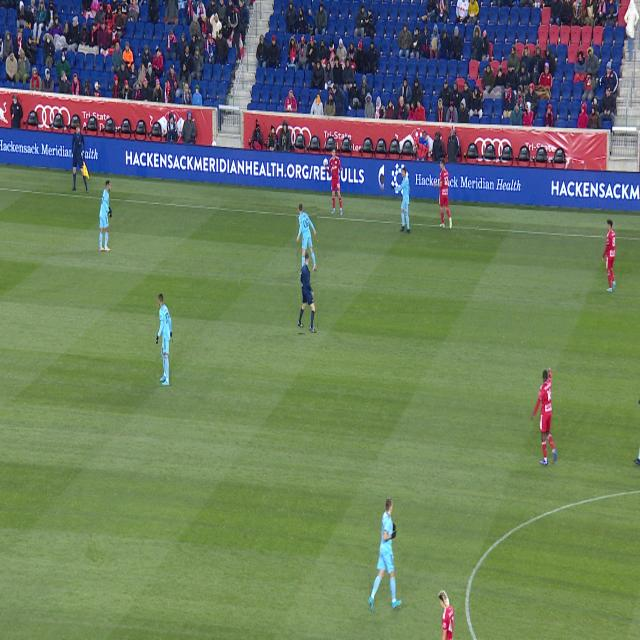player: (369, 499, 401, 613), (531, 367, 556, 465), (156, 294, 172, 386), (297, 204, 317, 271), (434, 158, 452, 230), (392, 167, 410, 233), (602, 219, 616, 292), (99, 180, 112, 251), (438, 590, 454, 640)
referee: (298, 254, 317, 333)
